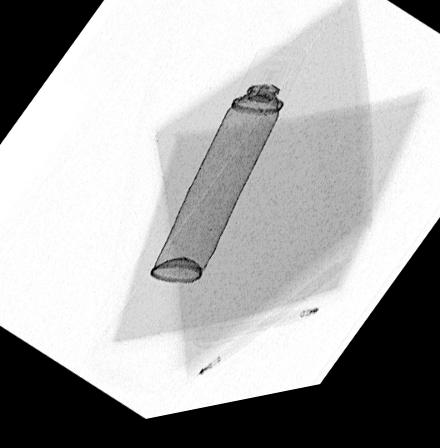Sprayer: (147, 55, 306, 292)
